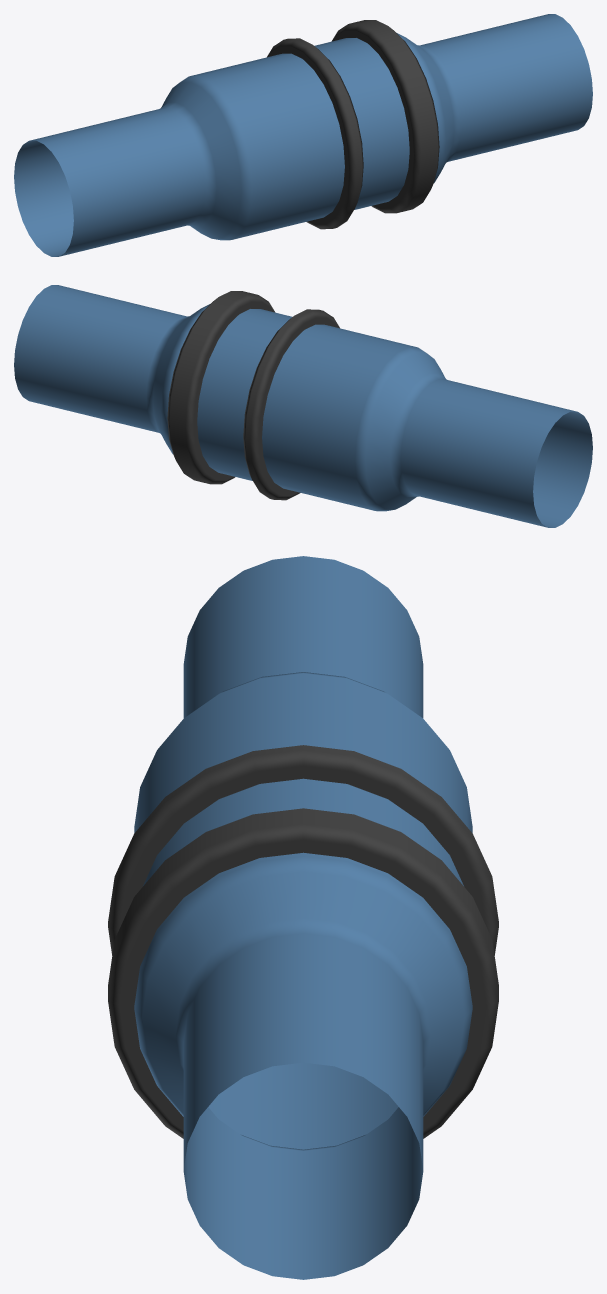
File: Pipe_Thick.fbx
3 views of the same model, one above another, from view 1: azimuth 30°, elevation 25°; view 2: azimuth 150°, elevation 25°; view 3: azimuth 270°, elevation 25° (orthographic). The views are drawn at different scales.
Parts seen in each view (by area): view 1: Pipe_Thick; view 2: Pipe_Thick; view 3: Pipe_Thick.
Boxes of the visible parts, <box> form: Pipe_Thick: <box>14,14,592,256</box>; Pipe_Thick: <box>14,285,592,527</box>; Pipe_Thick: <box>108,556,498,1279</box>.
Bounding box in the file's own units: 200 × 65.24 × 65.24.
